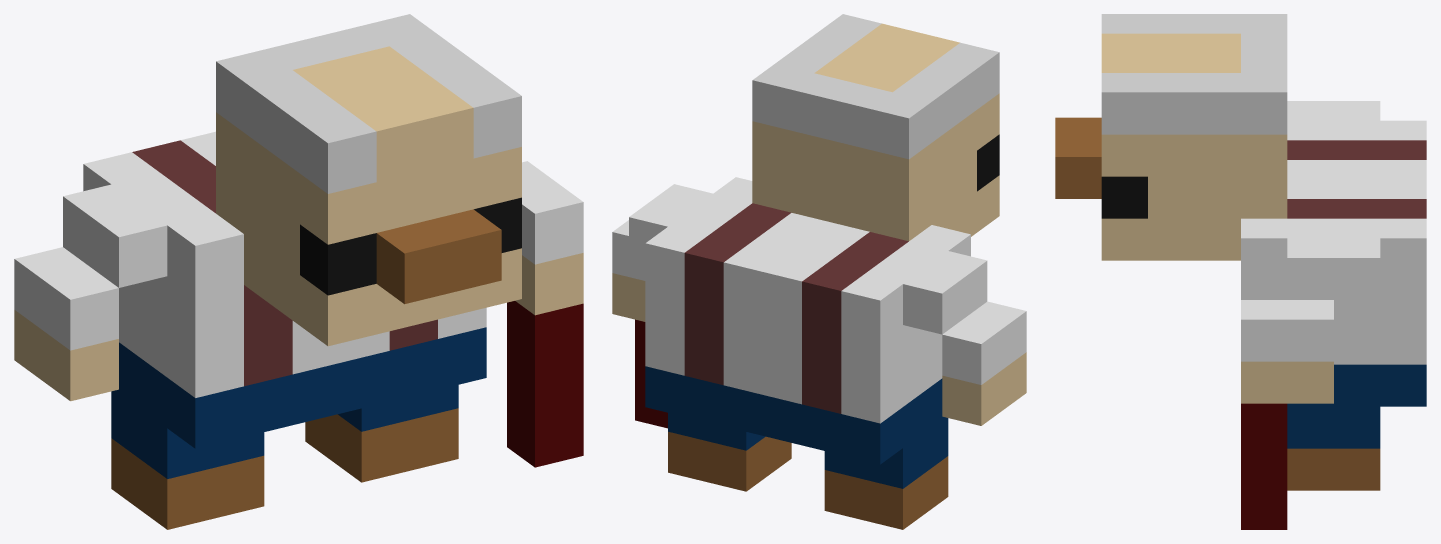
The model's file is rioboo-3.obj.
3 renders of one model, left to right at view 1: azimuth 30°, elevation 25°; view 2: azimuth 150°, elevation 25°; view 3: azimuth 270°, elevation 25°, orthographic. The views are drawn at different scales.
Size of the model in its own units: 1 by 0.9 by 0.8.
Materials: 1 (1 with a texture image).
